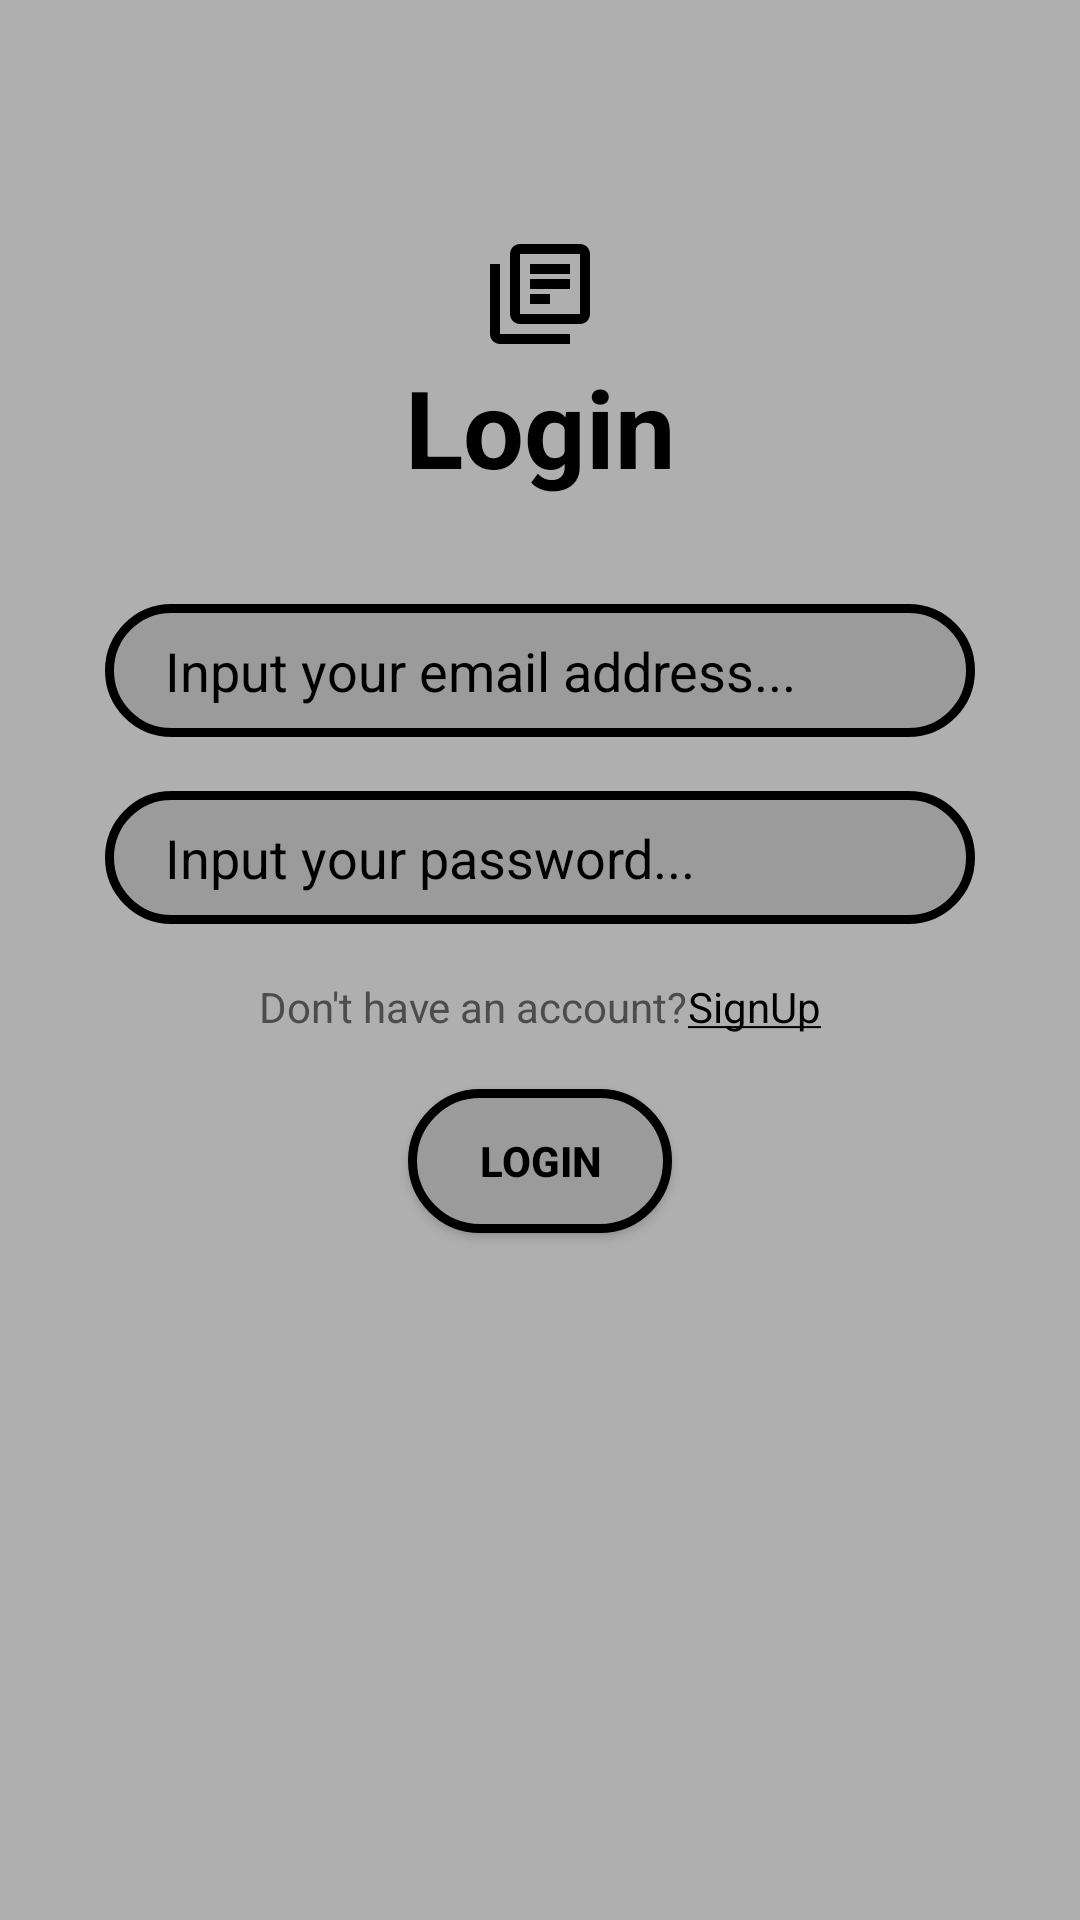

Named icons in this screenshot (1080*1920) and their bounding boxes, bbox(x1, y1, x2, y2):
library books: bbox(490, 244, 590, 344)
